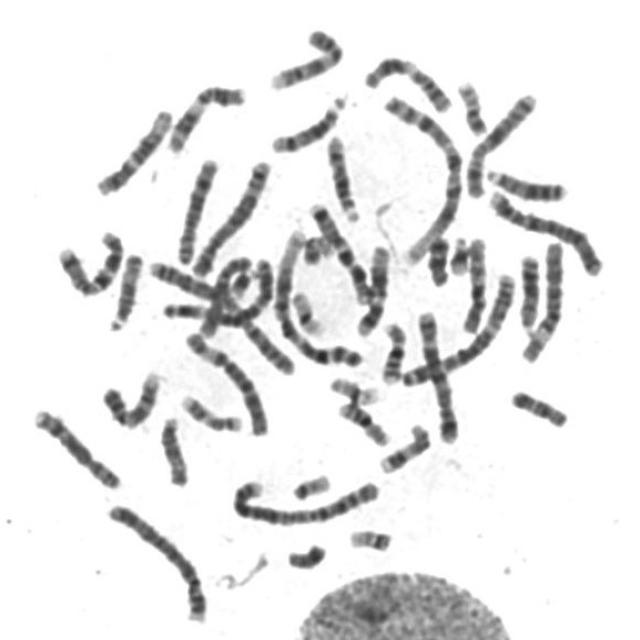A1: (376, 87, 468, 273), (266, 221, 364, 370)
A2: (146, 252, 298, 379), (222, 467, 385, 528)
A3: (394, 264, 521, 387), (161, 251, 279, 333)
B4: (100, 494, 212, 624), (482, 182, 606, 278)
B5: (185, 151, 274, 279), (410, 300, 462, 446)
C10: (197, 257, 254, 340), (455, 228, 491, 336)
C11: (160, 75, 250, 155), (357, 46, 456, 115)
C12: (89, 100, 175, 198), (349, 236, 394, 339)
C6: (177, 321, 272, 438), (513, 232, 568, 364)
C7: (301, 194, 374, 302), (51, 221, 128, 298)
C8: (26, 400, 124, 492), (170, 148, 223, 268)
C9: (262, 20, 346, 92), (94, 362, 164, 431)
D13: (479, 160, 570, 202), (512, 246, 544, 334)
D14: (264, 87, 349, 155), (319, 126, 364, 224)
D15: (102, 245, 145, 333), (153, 408, 192, 488)
E16: (332, 393, 392, 448), (374, 313, 409, 386)
E17: (372, 416, 434, 475), (173, 386, 246, 434)
E18: (504, 380, 571, 430), (420, 229, 454, 288)
F19: (285, 282, 328, 338), (323, 368, 384, 406)
F20: (450, 72, 490, 136), (297, 227, 335, 266)
G21: (443, 228, 472, 277), (225, 262, 255, 300)
G22: (284, 465, 335, 503), (342, 520, 396, 553)
X: (458, 84, 540, 199)
Y: (280, 534, 328, 571)
